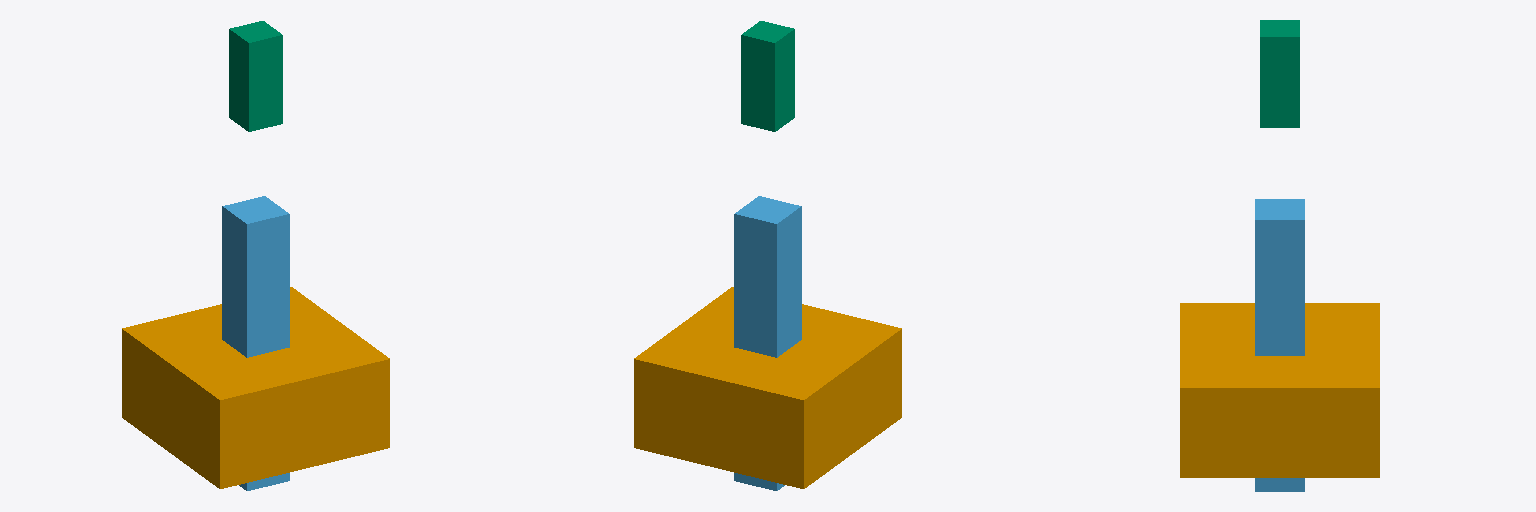
robot.urdf — a_dynamics_damping:
<?xml version="1.0"?>
<!--
  Fixture (a): joints that carry <dynamics damping friction>.

  Written for urdf-usd-bridge. Not derived from any file in references/.

  Purpose: pin down exactly which USD attribute each converter version writes
  for URDF joint damping and friction, and whether Isaac Sim's
  urdf_to_mjc_physx_conversion_utils can find it.

    urdf-usd-converter <= 0.2.0 : urdf:dynamics:damping / urdf:dynamics:friction
    urdf-usd-converter >= 0.3.0 : newton:damping / newton:friction
    Isaac Sim 6.1.0 reads       : urdf:dynamics:damping / urdf:dynamics:friction

  Geometry is boxes only, so conversion needs no external mesh files.

  Angular units: URDF damping is N*m*s/rad; USD angular drive damping is
  N*m*s/deg. NewtonJointAPI documents newton:damping in effort*s/deg, so a
  correct converter rescales by pi/180: 1.5 * pi/180 = 0.0261799...
-->
<robot name="a_dynamics_damping">

  <link name="base_link">
    <inertial>
      <origin xyz="0 0 0" rpy="0 0 0"/>
      <mass value="5.0"/>
      <inertia ixx="0.05" ixy="0" ixz="0" iyy="0.05" iyz="0" izz="0.05"/>
    </inertial>
    <visual>
      <geometry><box size="0.2 0.2 0.1"/></geometry>
    </visual>
    <collision>
      <geometry><box size="0.2 0.2 0.1"/></geometry>
    </collision>
  </link>

  <link name="arm_link">
    <inertial>
      <origin xyz="0 0 0.15" rpy="0 0 0"/>
      <mass value="1.25"/>
      <inertia ixx="0.01" ixy="0" ixz="0" iyy="0.01" iyz="0" izz="0.002"/>
    </inertial>
    <visual>
      <geometry><box size="0.05 0.05 0.3"/></geometry>
    </visual>
    <collision>
      <geometry><box size="0.05 0.05 0.3"/></geometry>
    </collision>
  </link>

  <link name="slider_link">
    <inertial>
      <origin xyz="0 0 0" rpy="0 0 0"/>
      <mass value="0.4"/>
      <inertia ixx="0.001" ixy="0" ixz="0" iyy="0.001" iyz="0" izz="0.0005"/>
    </inertial>
    <visual>
      <geometry><box size="0.04 0.04 0.1"/></geometry>
    </visual>
    <collision>
      <geometry><box size="0.04 0.04 0.1"/></geometry>
    </collision>
  </link>

  <!-- Revolute: damping 1.5 N*m*s/rad, Coulomb friction 0.3 N*m. -->
  <joint name="shoulder_joint" type="revolute">
    <parent link="base_link"/>
    <child link="arm_link"/>
    <origin xyz="0 0 0.05" rpy="0 0 0"/>
    <axis xyz="0 1 0"/>
    <limit lower="-1.57" upper="1.57" effort="87.0" velocity="2.5"/>
    <dynamics damping="1.5" friction="0.3"/>
  </joint>

  <!-- Prismatic: linear units throughout, so no angular rescale should occur. -->
  <joint name="slide_joint" type="prismatic">
    <parent link="arm_link"/>
    <child link="slider_link"/>
    <origin xyz="0 0 0.3" rpy="0 0 0"/>
    <axis xyz="0 0 1"/>
    <limit lower="0.0" upper="0.08" effort="50.0" velocity="0.5"/>
    <dynamics damping="4.0" friction="0.1"/>
  </joint>

</robot>

--- Render facts (derived) ---
3 views of the same robot in one strip: view 1: azimuth 30°, elevation 25°; view 2: azimuth 150°, elevation 25°; view 3: azimuth 270°, elevation 25° (orthographic).
Robot: a_dynamics_damping — 3 links, 2 joints (1 revolute, 1 prismatic); root link base_link; default pose: all joints at 0.
Links seen in each view (by area): view 1: base_link, arm_link, slider_link; view 2: base_link, arm_link, slider_link; view 3: base_link, arm_link, slider_link.
Boxes of the visible links, x1,y1,x2,y2 form: base_link: (122,287,389,488); arm_link: (222,196,289,490); slider_link: (229,21,282,131); base_link: (634,287,901,488); arm_link: (734,196,801,490); slider_link: (741,21,794,131); base_link: (1180,303,1379,477); arm_link: (1255,199,1304,491); slider_link: (1260,20,1299,127).
Size in the robot's own frame: 0.2 by 0.2 by 0.5 metres.
Geometry: primitives only (box / cylinder / sphere), no mesh files.
